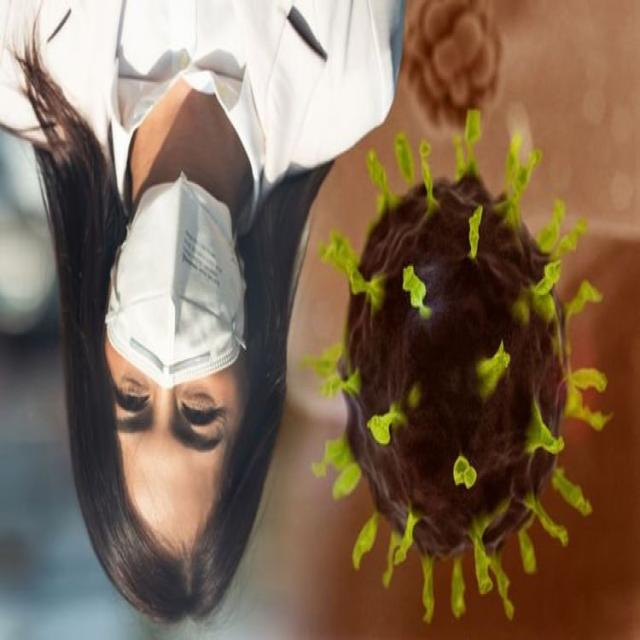mask: (94, 169, 250, 396)
